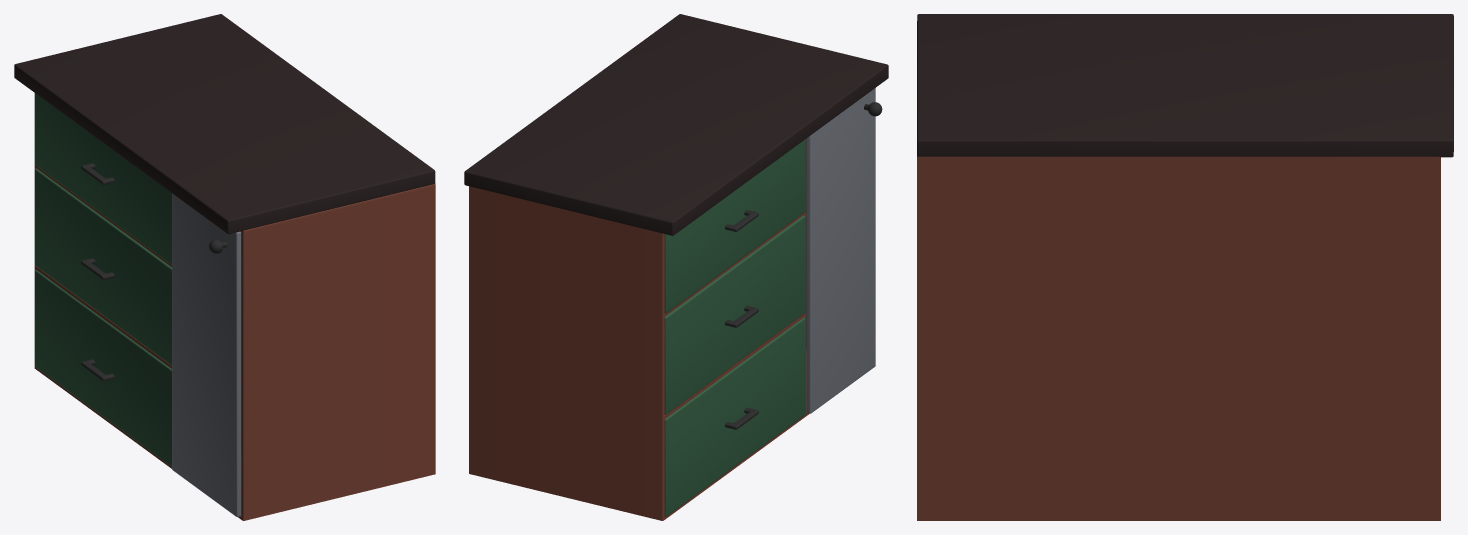
Rendered from Drawers.fbx.
The picture shows the model from 3 angles, left to right: view 1: azimuth 30°, elevation 25°; view 2: azimuth 150°, elevation 25°; view 3: azimuth 270°, elevation 25°; orthographic projection. The views are drawn at different scales.
Parts seen in each view (by area): view 1: DrawerBody, DrawerDoor, Drawer2, Drawer3, Drawer1; view 2: DrawerBody, DrawerDoor, Drawer2, Drawer3, Drawer1; view 3: DrawerBody.
Part boxes in pixels (box(x1,y1,x2,y2)): DrawerBody: box(14, 14, 435, 520); DrawerDoor: box(172, 193, 240, 516); Drawer2: box(34, 168, 171, 365); Drawer3: box(34, 270, 171, 466); Drawer1: box(34, 93, 171, 264); DrawerBody: box(464, 14, 888, 520); DrawerDoor: box(806, 88, 882, 413); Drawer2: box(664, 215, 805, 414); Drawer3: box(664, 317, 805, 516); Drawer1: box(664, 139, 805, 313); DrawerBody: box(917, 14, 1453, 520).
Bounding box in the file's own units: 87.98 × 120 × 154.
